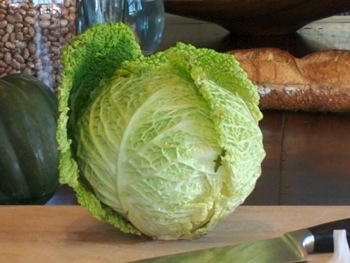cabbage: (56, 23, 267, 240)
